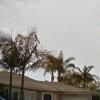Palm tree: (4, 21, 64, 81)
